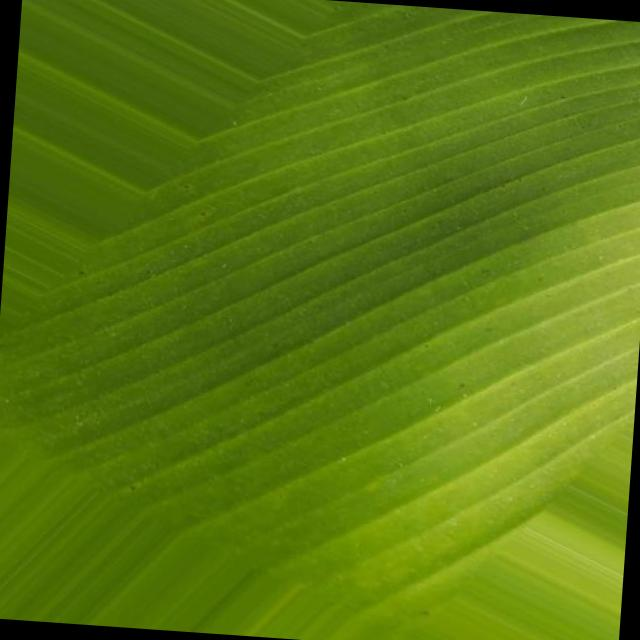Banana_Healthy: (211, 111, 602, 479)
